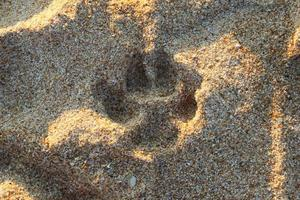chien: (89, 48, 202, 151)
